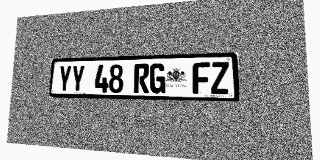4: (94, 64, 109, 93)
8: (109, 64, 124, 93)
F: (193, 62, 210, 94)
G: (149, 63, 166, 93)
R: (134, 64, 149, 93)
Y: (58, 65, 72, 92), (71, 65, 85, 92)
Z: (211, 62, 229, 94)
